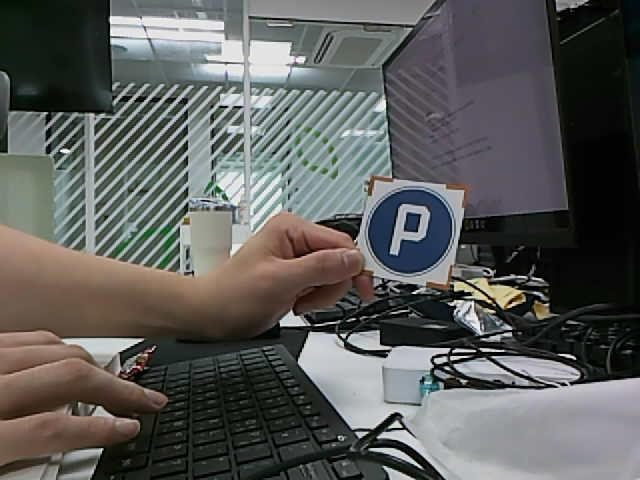park: (366, 187, 457, 277)
